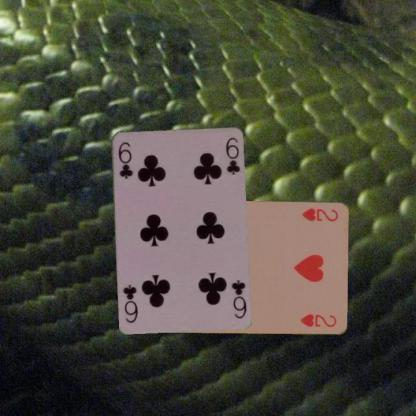2h: (299, 205, 340, 223)
6c: (229, 277, 248, 320), (116, 138, 134, 180)
